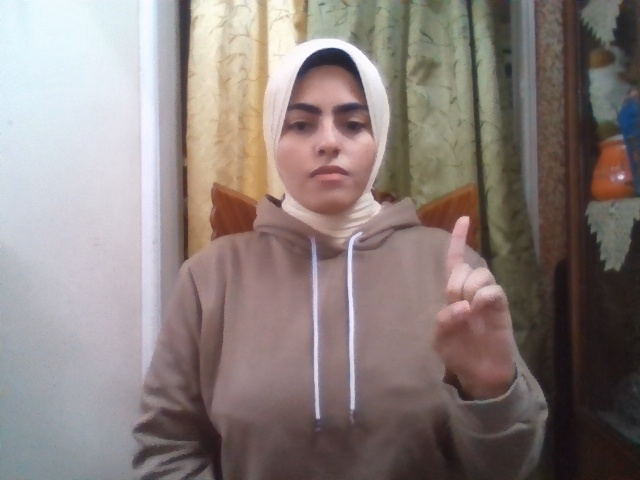D: (431, 217, 514, 383)
